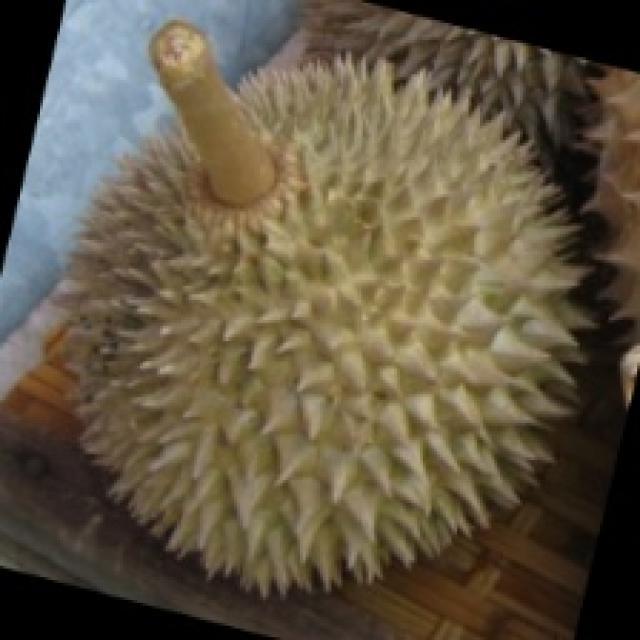d175: (52, 34, 591, 591)
